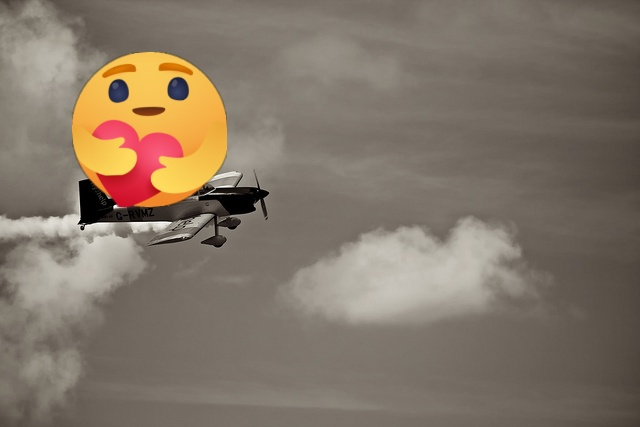care: (72, 52, 227, 207)
